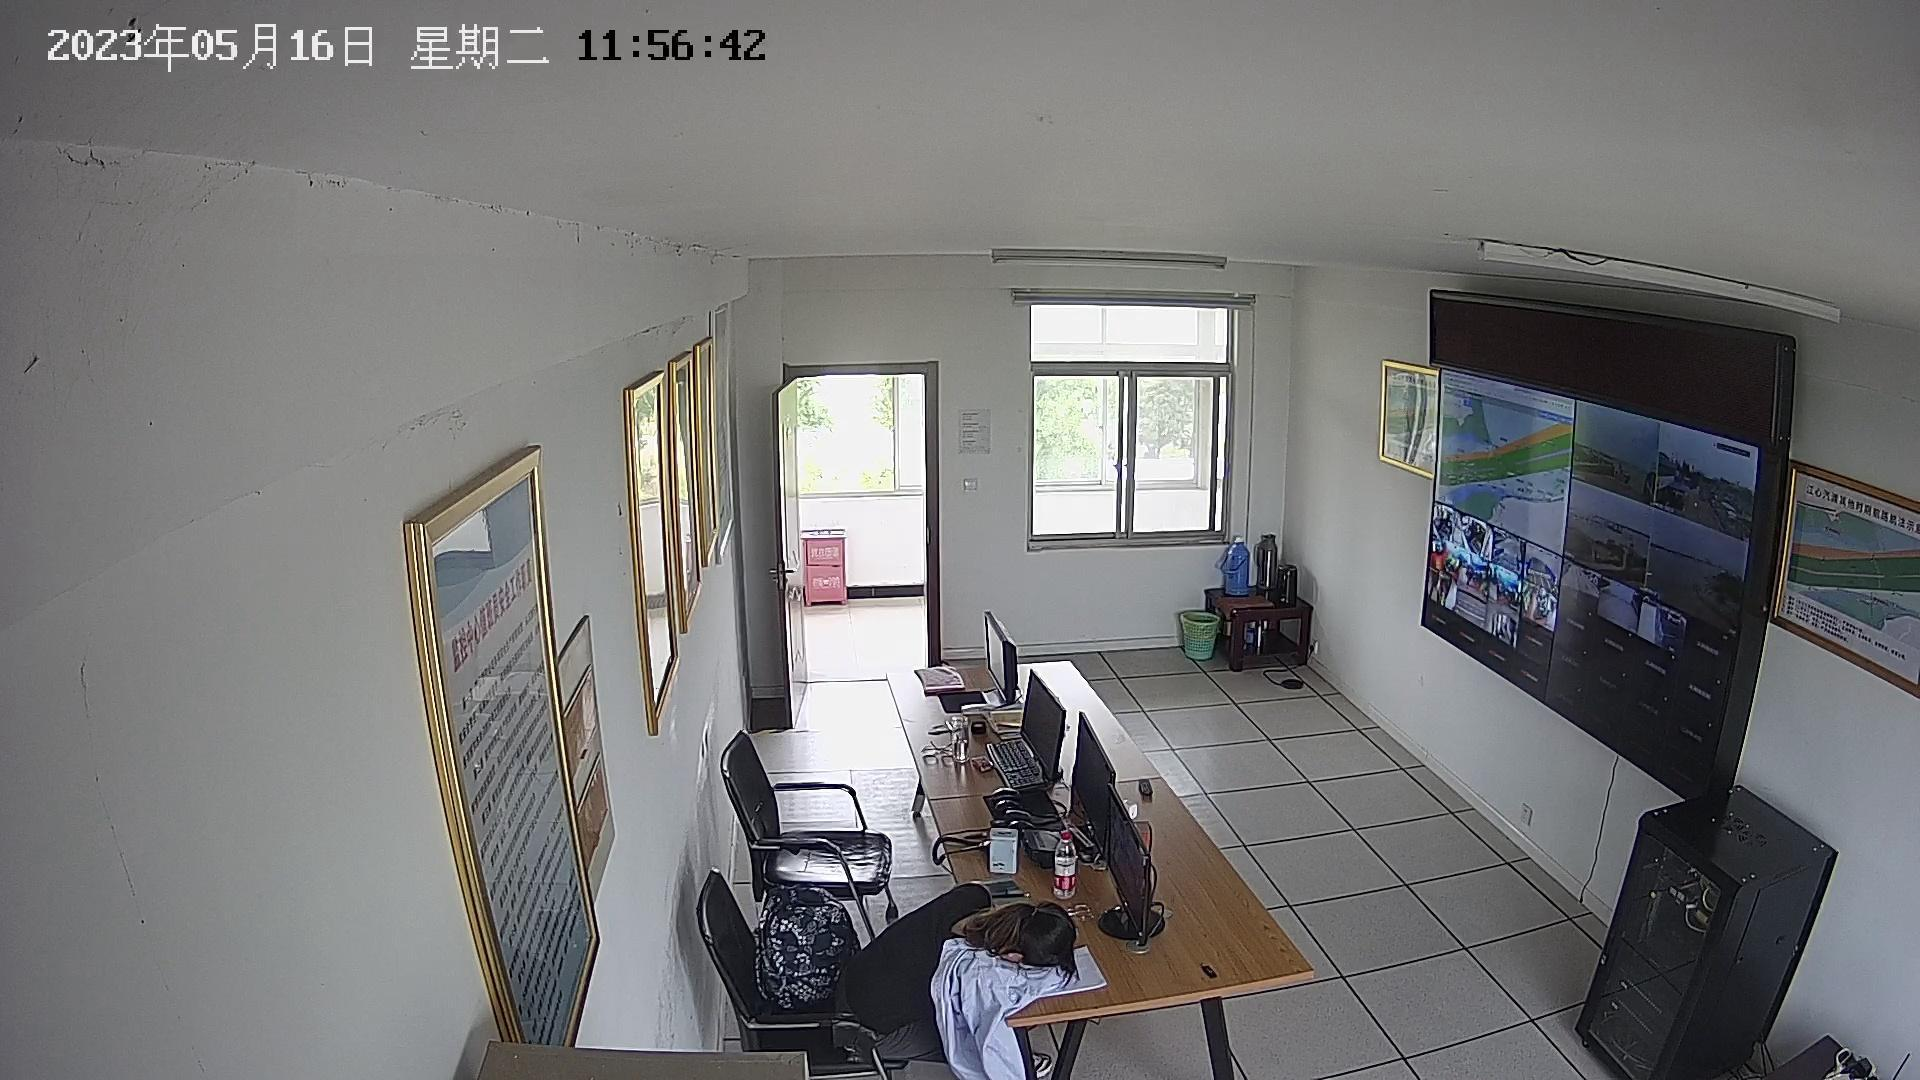sleep: (922, 870, 1098, 1006)
